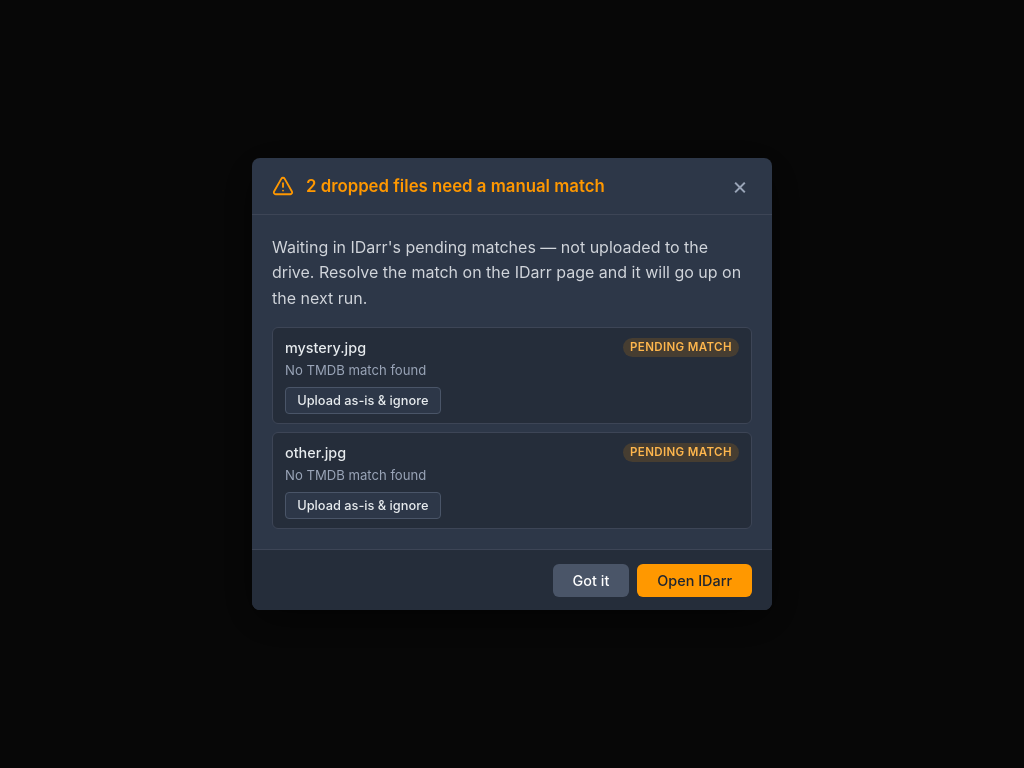
Test case: IdarrQuickAddNoticeHost › keeps the popup open with the row marked when other files still need attention
Click the button "Upload as-is & ignore" below "mystery.jpg": (363,400) [285,387,441,414]
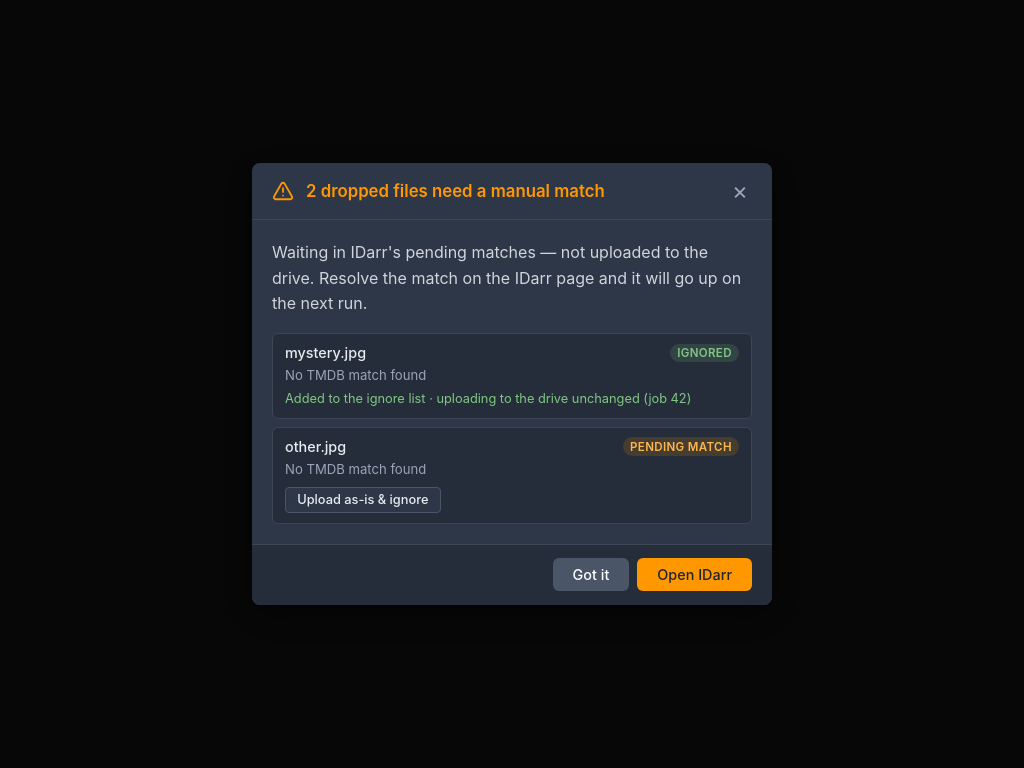
Check: the text "Added to the ignore list" is shown, box [285,391,691,406]
Check: the text "Ignored" is shown, box [670,344,739,362]
Check: the number of buttons "Upload as-is & ignore" is 1, box [285,486,441,513]
